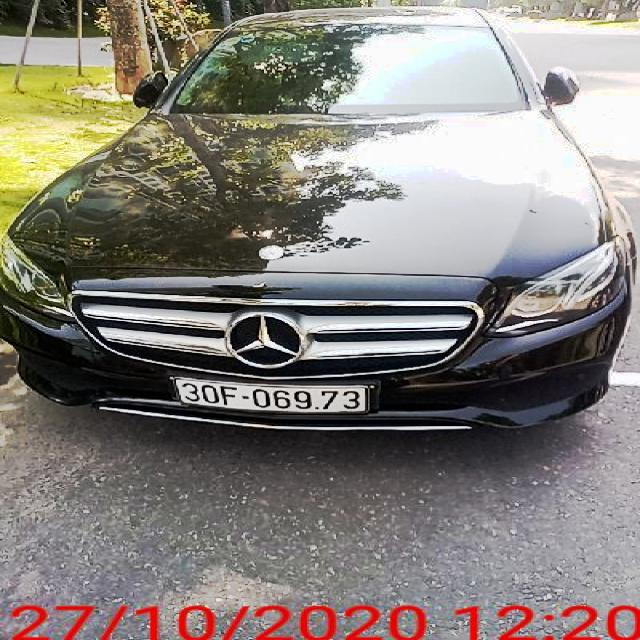license_plate: (172, 380, 376, 416)
